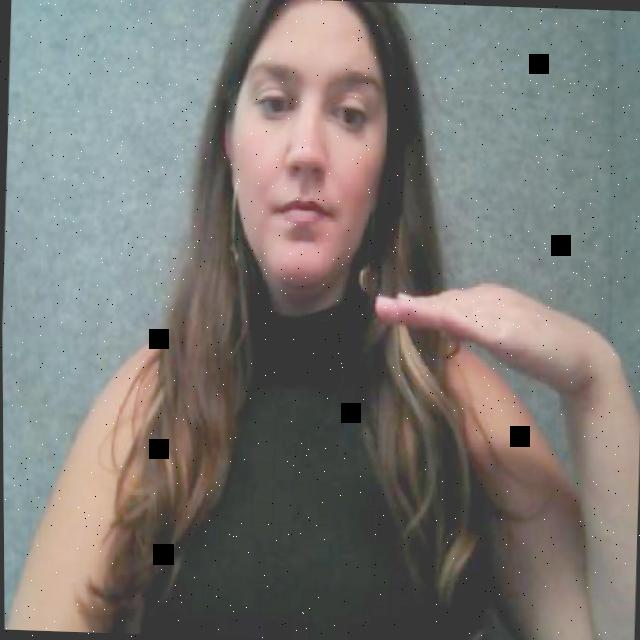Paper: (368, 257, 605, 368)
